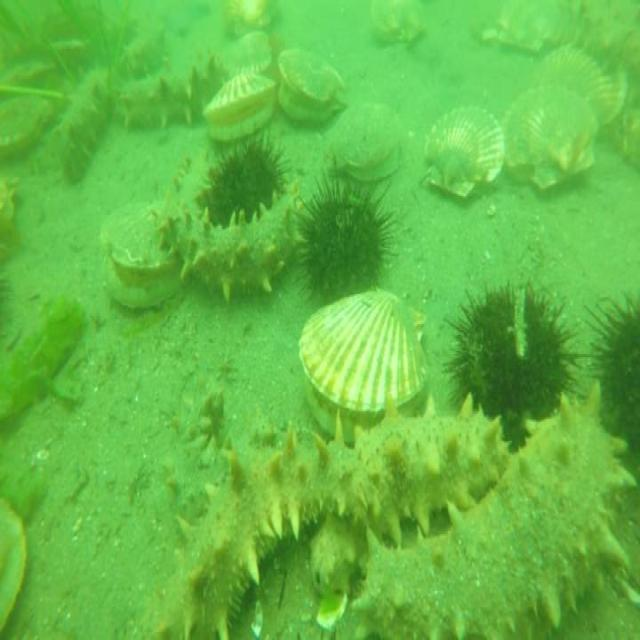echinus: (445, 270, 586, 447), (295, 168, 395, 300), (586, 275, 640, 460), (205, 131, 287, 223)
holothurian: (150, 387, 504, 639), (352, 377, 629, 640), (164, 152, 303, 302), (162, 384, 236, 521), (114, 52, 218, 134), (54, 66, 110, 185), (557, 0, 639, 66), (114, 19, 170, 76)
scallop: (298, 291, 436, 444), (500, 77, 600, 193), (532, 40, 626, 139), (102, 199, 182, 311), (417, 101, 505, 202), (328, 93, 408, 182), (276, 38, 348, 126), (202, 71, 278, 145), (0, 491, 33, 640), (493, 0, 567, 55), (0, 85, 52, 161), (367, 0, 431, 49), (215, 30, 277, 79), (225, 0, 283, 35)
